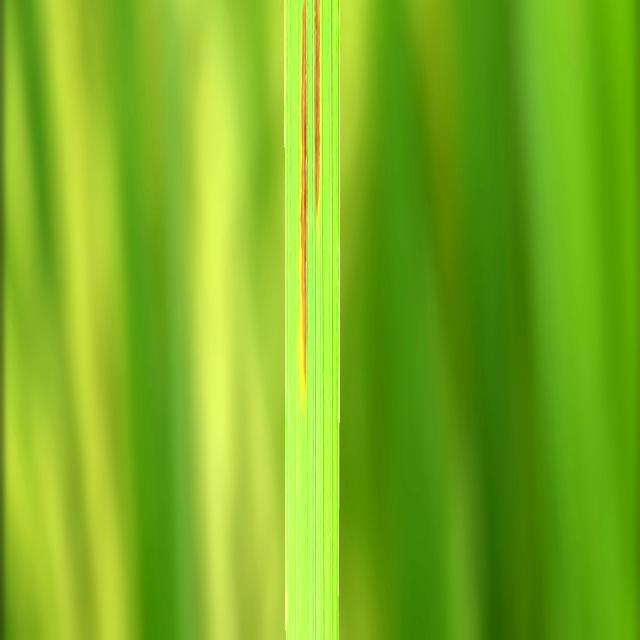NBS: (301, 0, 308, 387), (314, 0, 320, 218)
